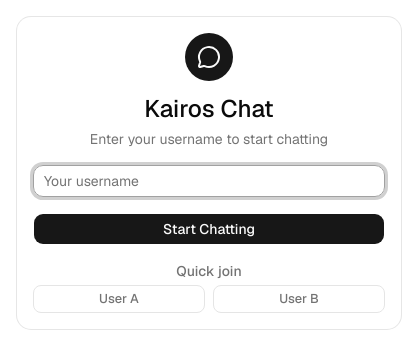
Test: LoginForm › quick-join buttons pre-fill username
The width and height of the screenshot is (419, 347).
Click the button "User A": (119, 299) [33,285,205,313]
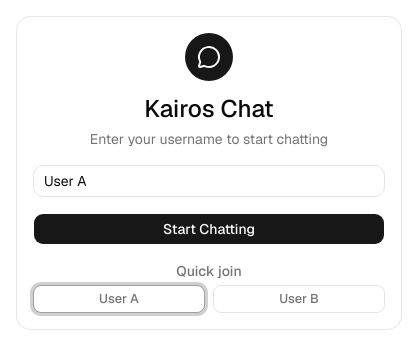
Result: the field with test id "username-input" holds "User A" at [33,165,385,197]
